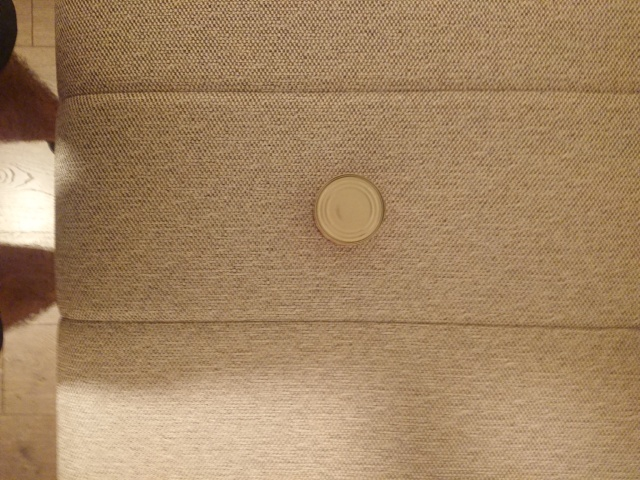Podravka Luncheon Meat 150g: (309, 172, 387, 248)
